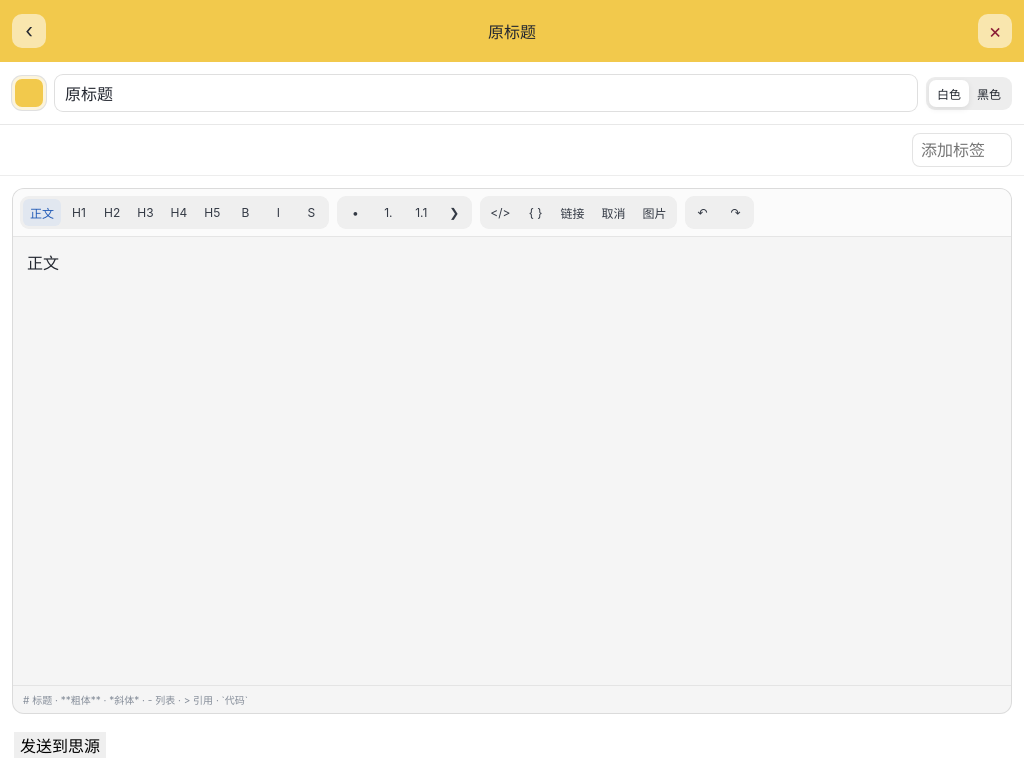
editor focus stability › does not send a stale note when saving the draft conflicts
Replace the text in the field named "标题" with "本地新标题" at x=486, y=93, box left=54, top=74, right=918, bottom=112
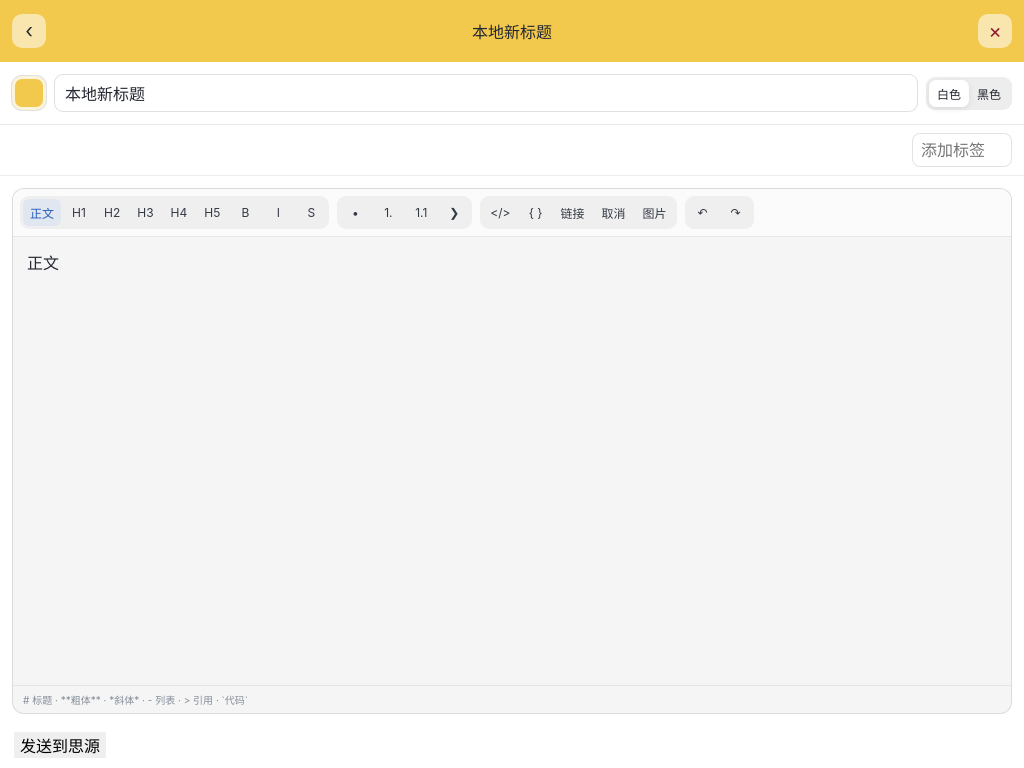
Click the button "黑色" at x=989, y=93, box left=969, top=80, right=1009, bottom=106
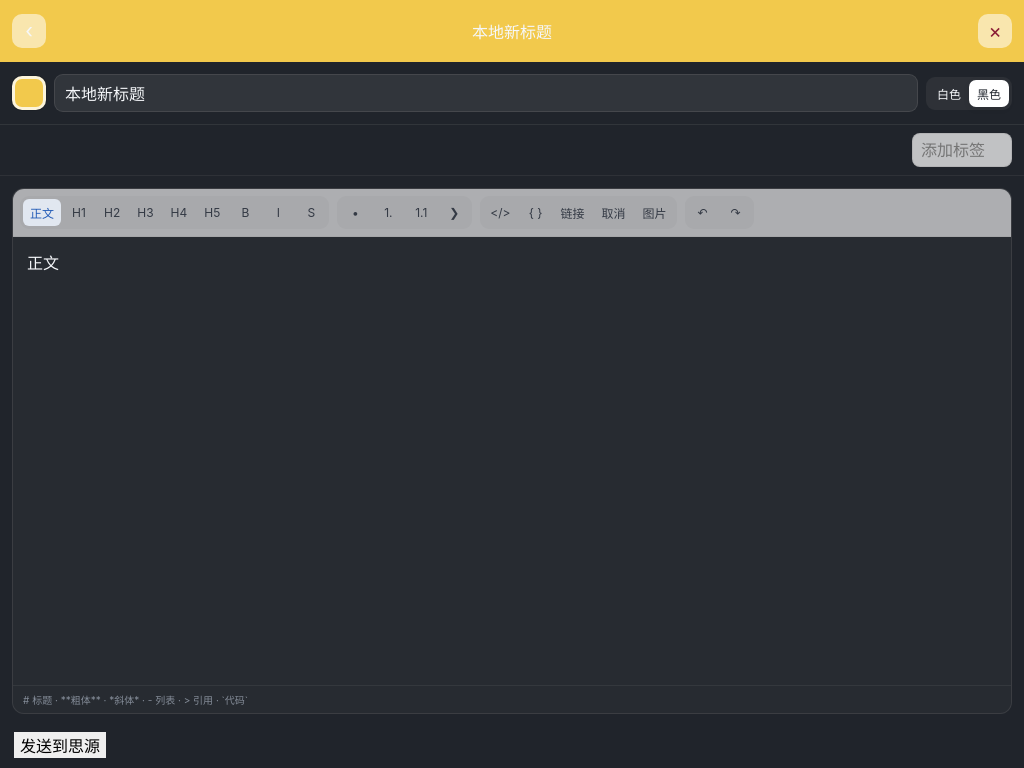
Click the button "发送到思源" at x=60, y=745, box left=14, top=732, right=106, bottom=758
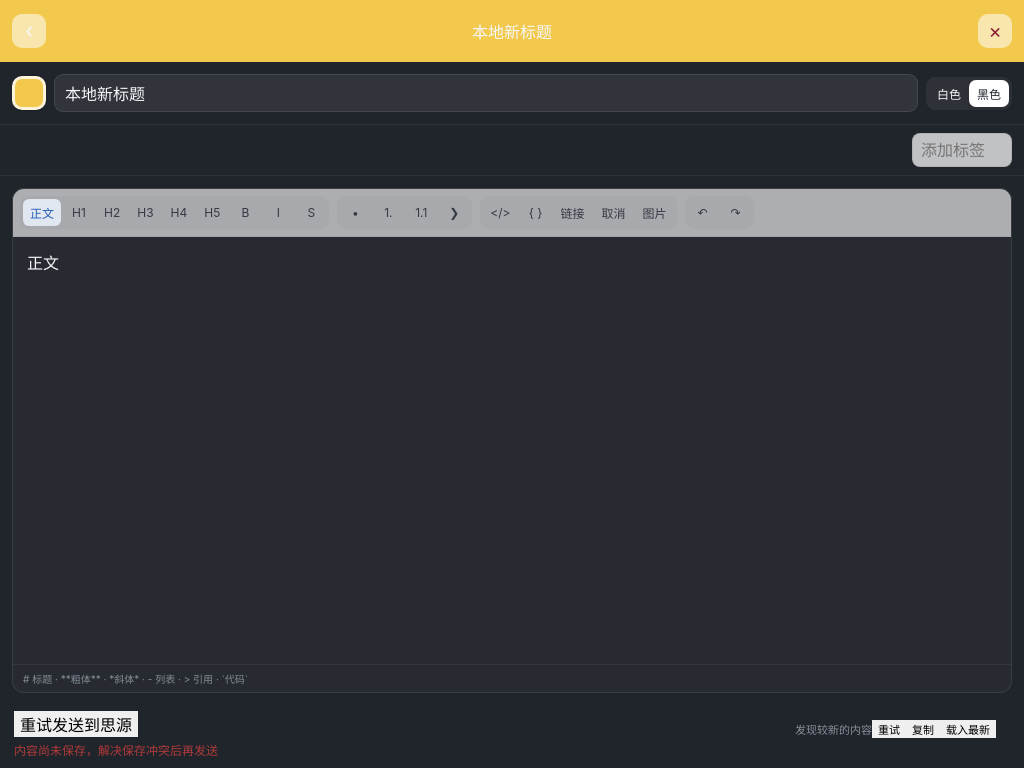
expect the button "重试发送到思源" is enabled: met, box left=14, top=711, right=138, bottom=737
expect the text "内容尚未保存，解决保存冲突后再发送" is shown: met, box left=14, top=741, right=218, bottom=758
